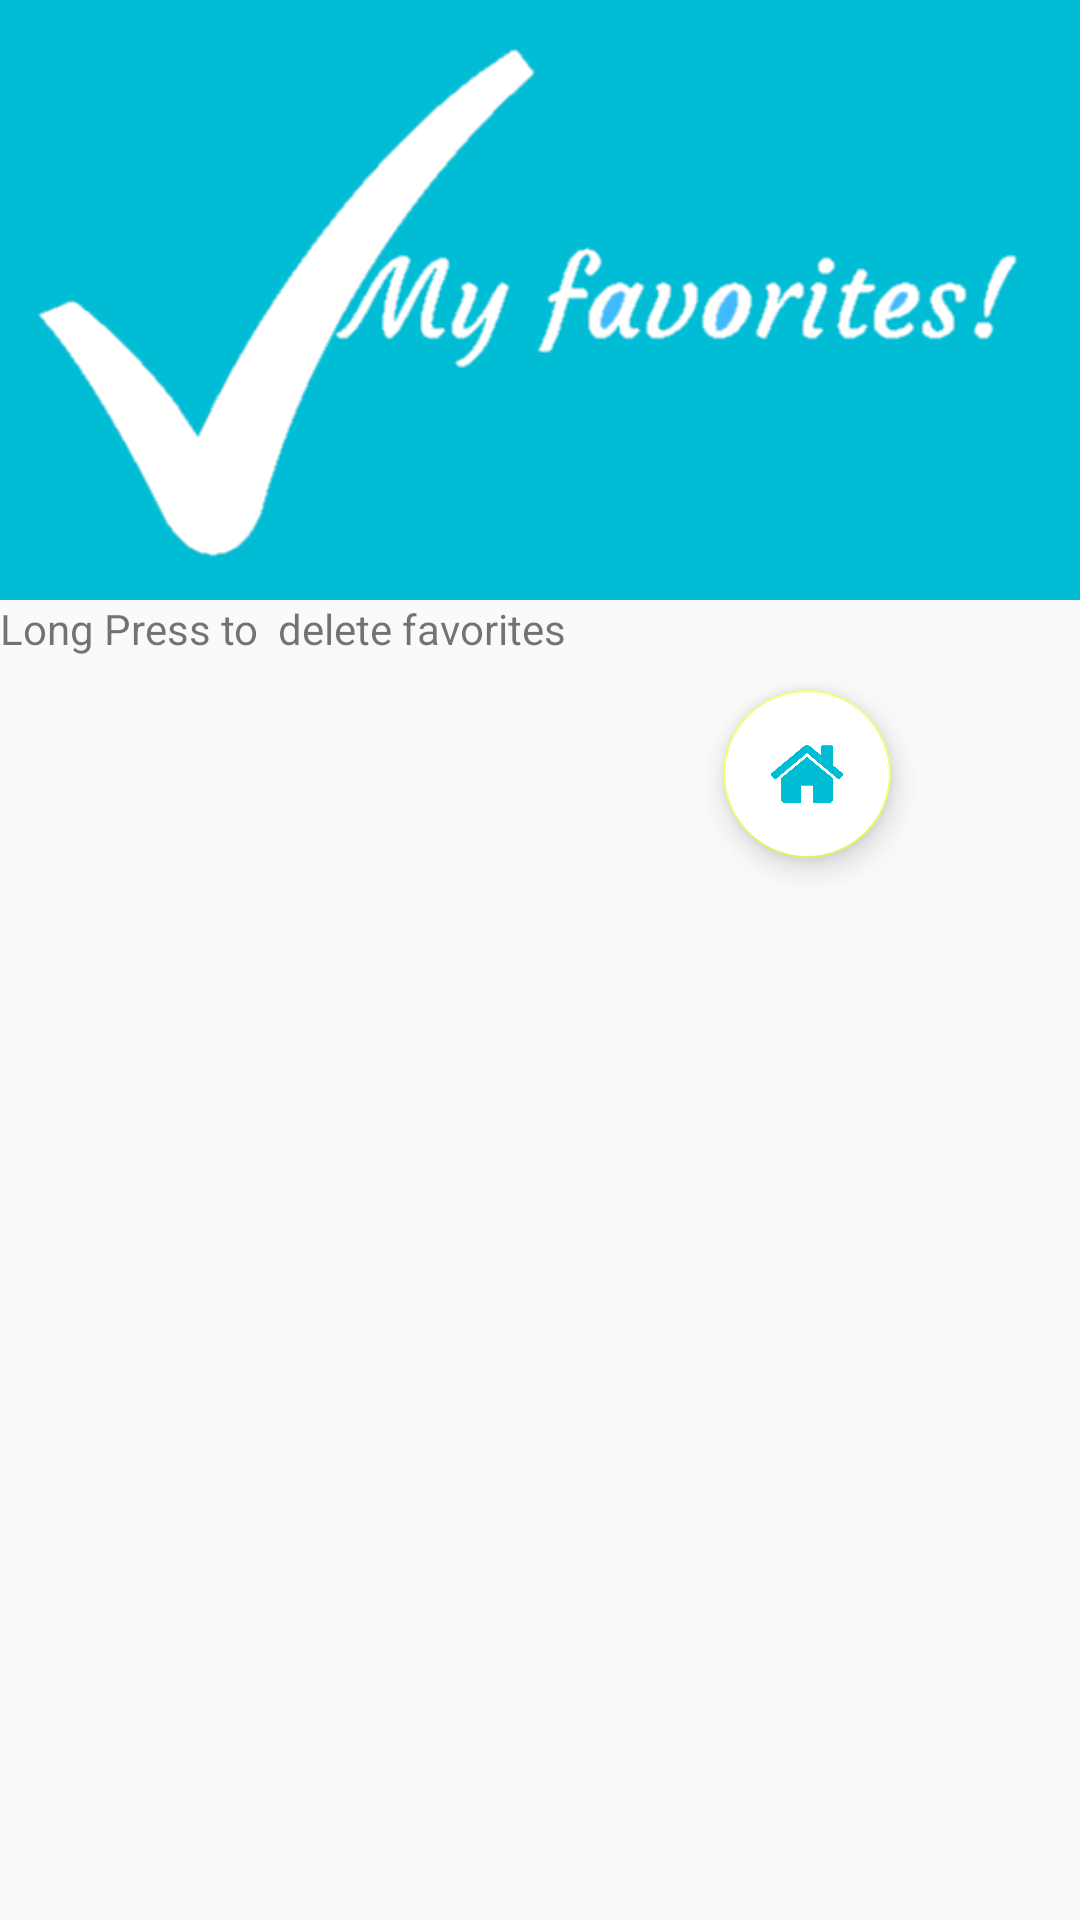

Point at icon controls on the screen. Image size 1080 × 1920, points as (x=x, y=y).
home: (x=807, y=774)
